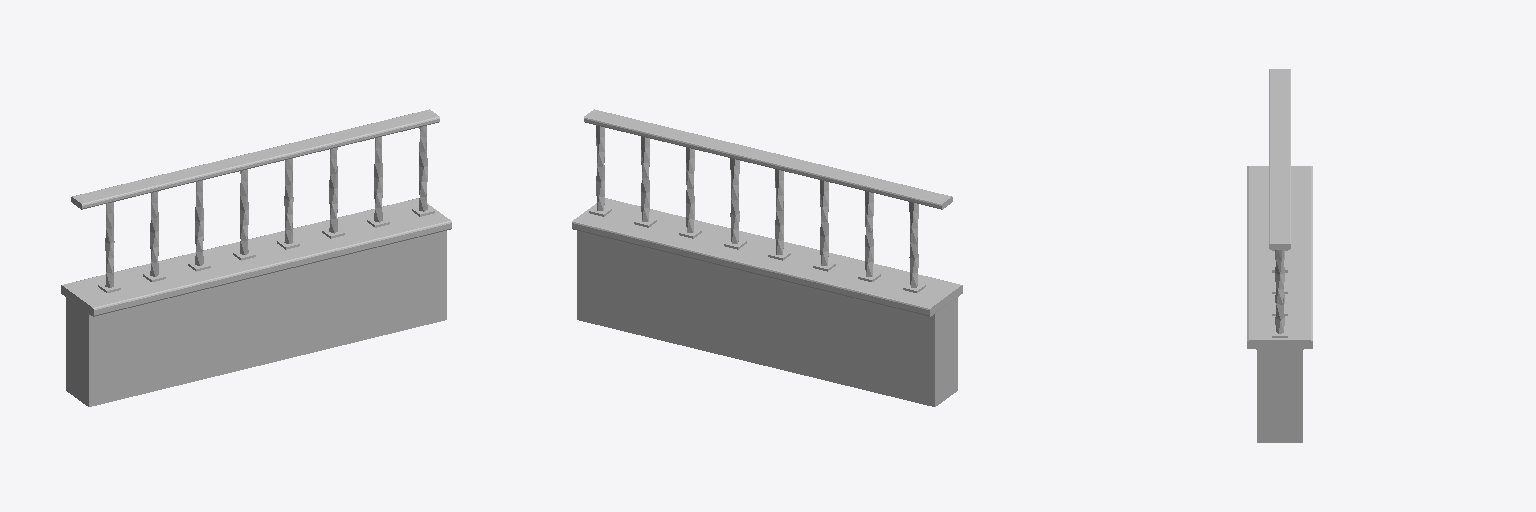
File: fence.obj
3 renders of one model, left to right at view 1: azimuth 30°, elevation 25°; view 2: azimuth 150°, elevation 25°; view 3: azimuth 270°, elevation 25°, orthographic.
Visible parts, largest first — view 1: Fence.001; view 2: Fence.001; view 3: Fence.001.
Boxes of the visible parts, box(x1,y1,x2,y2) form: Fence.001: box(61, 109, 451, 406); Fence.001: box(572, 109, 962, 406); Fence.001: box(1247, 69, 1312, 442).
Size of the model in its own units: 1 by 0.53 by 0.16.